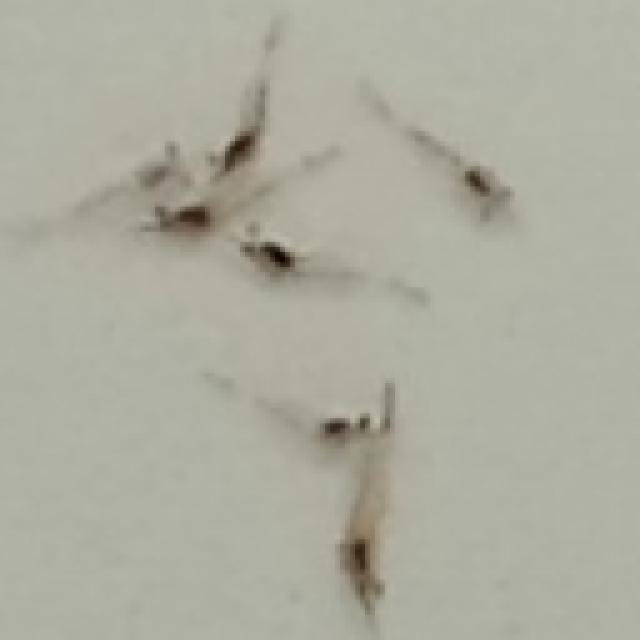shrimp-seed: (330, 532, 392, 614), (454, 159, 526, 229), (236, 216, 302, 282), (308, 402, 376, 460), (146, 194, 214, 243), (134, 140, 195, 188), (210, 126, 265, 179)
